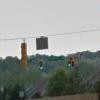Traffic light: (15, 34, 33, 71)
